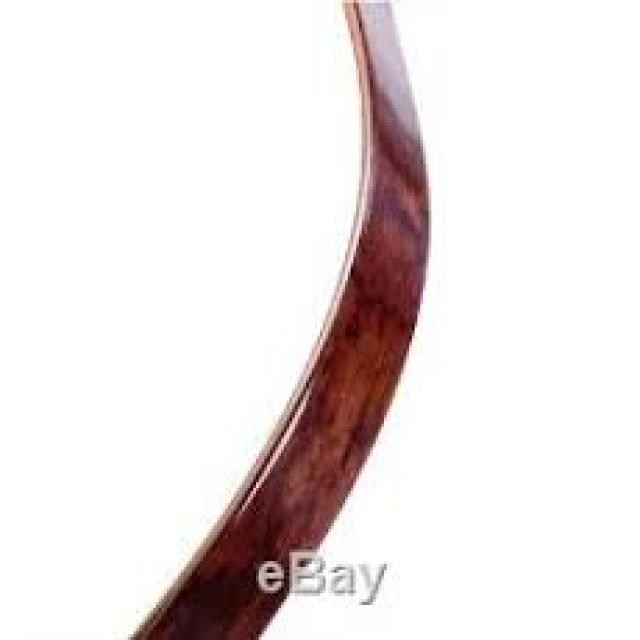X-Bow: (128, 0, 436, 640)
